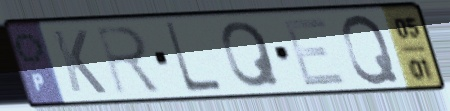E: (280, 15, 350, 89)
K: (49, 27, 111, 96)
L: (161, 19, 226, 96)
Q: (339, 12, 403, 87), (219, 19, 284, 91)
R: (92, 23, 165, 98)
